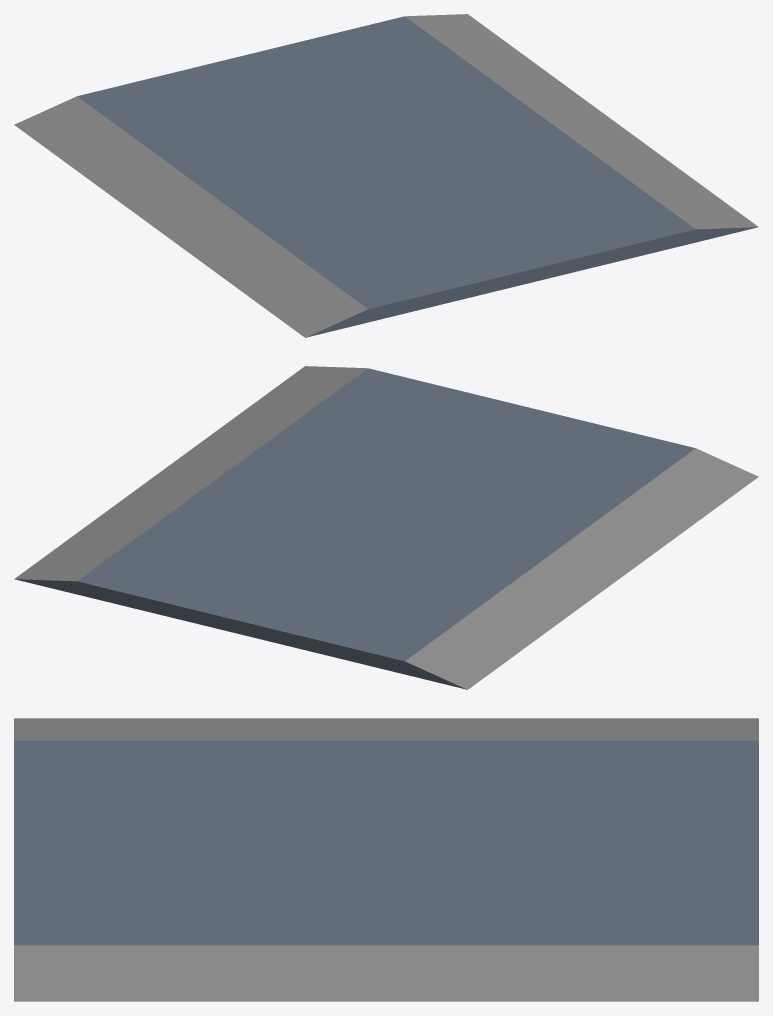
Rendered from SM_Driveway_Long.fbx.
3 views of the same model, one above another, from view 1: azimuth 30°, elevation 25°; view 2: azimuth 150°, elevation 25°; view 3: azimuth 270°, elevation 25° (orthographic). The views are drawn at different scales.
Visible parts, largest first — view 1: SM_Driveway_Long; view 2: SM_Driveway_Long; view 3: SM_Driveway_Long.
Boxes of the visible parts, left/top/right/bottom form: SM_Driveway_Long: left=14, top=14, right=758, bottom=337; SM_Driveway_Long: left=14, top=366, right=758, bottom=689; SM_Driveway_Long: left=14, top=718, right=758, bottom=1001.
Bounding box in the file's own units: 259 × 7.2 × 288.
